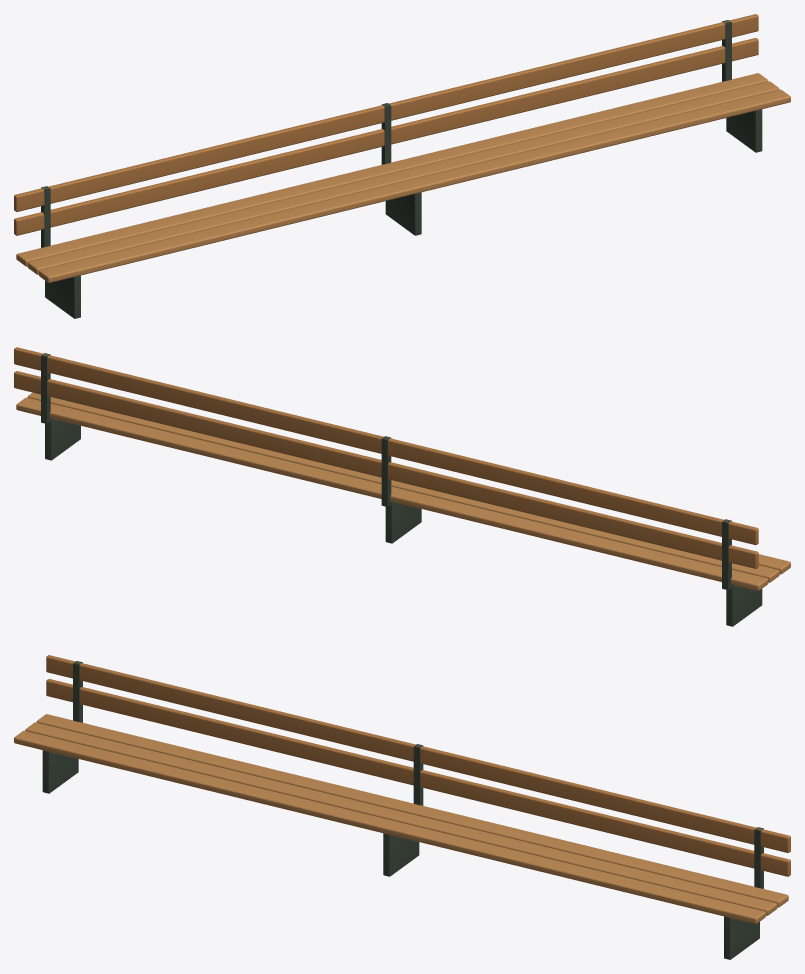
The model's file is bench.glb.
The picture shows the model from 3 angles, top to bottom: view 1: azimuth 30°, elevation 25°; view 2: azimuth 150°, elevation 25°; view 3: azimuth 330°, elevation 25°; orthographic projection.
Parts seen in each view (by area): view 1: back1, back0, seat0, seat1, seat2, leg2, leg1, leg0, post1; view 2: back1, back0, seat2, seat1, leg1, leg0, leg2, post1, post0, post2; view 3: back1, back0, seat0, seat1, seat2, leg0, leg1, leg2, post1.
Boxes of the visible parts, x1,y1,x2,y2 form: back1: (14, 14, 758, 211); back0: (14, 38, 758, 235); seat0: (39, 89, 790, 282); seat1: (27, 81, 779, 274); seat2: (16, 73, 768, 266); leg2: (726, 109, 762, 152); leg1: (385, 192, 421, 235); leg0: (45, 275, 80, 318); post1: (381, 103, 391, 164); back1: (14, 347, 758, 545); back0: (14, 371, 758, 568); seat2: (16, 397, 768, 590); seat1: (27, 392, 779, 582); leg1: (385, 501, 421, 543); leg0: (726, 584, 762, 626); leg2: (45, 418, 80, 460); post1: (381, 436, 391, 506); post0: (722, 519, 731, 589); post2: (41, 353, 50, 423); back1: (46, 655, 790, 852); back0: (46, 679, 790, 876); seat0: (14, 730, 765, 923); seat1: (25, 722, 777, 915); seat2: (36, 714, 788, 907); leg0: (42, 750, 78, 793); leg1: (383, 833, 419, 876); leg2: (724, 916, 759, 959); post1: (413, 744, 423, 805).
Size of the model in its own units: 7.2 by 0.99 by 0.595.
